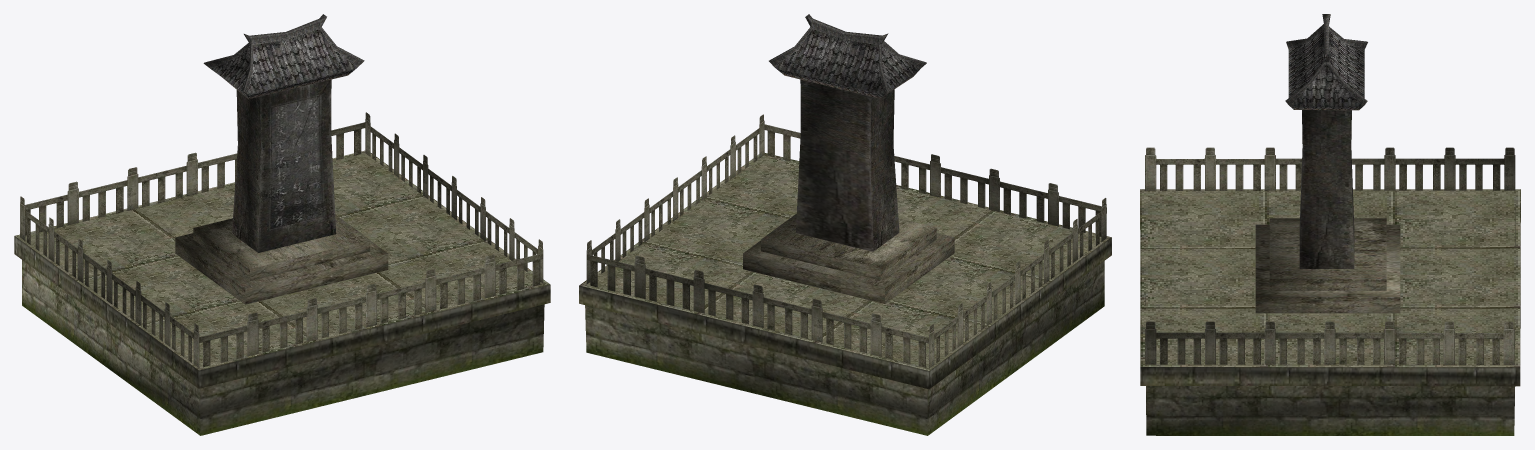
File: cj_grave_tombstone02_01.glb
The picture shows the model from 3 angles, left to right: view 1: azimuth 30°, elevation 25°; view 2: azimuth 150°, elevation 25°; view 3: azimuth 270°, elevation 25°; orthographic projection. The views are drawn at different scales.
Visible parts, largest first — view 1: cj_grave_tombstone02_02, cj_grave_tombstone02_05, cj_grave_tombstone02_03, cj_grave_tombstone02_04, cj_grave_tombstone02_01; view 2: cj_grave_tombstone02_02, cj_grave_tombstone02_05, cj_grave_tombstone02_03, cj_grave_tombstone02_04, cj_grave_tombstone02_01; view 3: cj_grave_tombstone02_05, cj_grave_tombstone02_02, cj_grave_tombstone02_03, cj_grave_tombstone02_04, cj_grave_tombstone02_01.
Boxes of the visible parts, box(x1,y1,x2,y2) form: cj_grave_tombstone02_02: box(14, 79, 550, 435); cj_grave_tombstone02_05: box(15, 150, 549, 370); cj_grave_tombstone02_03: box(20, 112, 543, 367); cj_grave_tombstone02_04: box(175, 214, 388, 304); cj_grave_tombstone02_01: box(203, 14, 364, 99); cj_grave_tombstone02_02: box(579, 79, 1111, 435); cj_grave_tombstone02_05: box(579, 153, 1111, 370); cj_grave_tombstone02_03: box(586, 114, 1106, 368); cj_grave_tombstone02_04: box(743, 214, 954, 303); cj_grave_tombstone02_01: box(769, 14, 926, 98); cj_grave_tombstone02_05: box(1140, 189, 1520, 367); cj_grave_tombstone02_02: box(1140, 110, 1520, 435); cj_grave_tombstone02_03: box(1145, 147, 1515, 364); cj_grave_tombstone02_04: box(1255, 218, 1400, 313); cj_grave_tombstone02_01: box(1285, 14, 1367, 110).
Bounding box in the file's own units: 5.31 × 4.39 × 4.8.
Materials: 5 (5 with a texture image).
